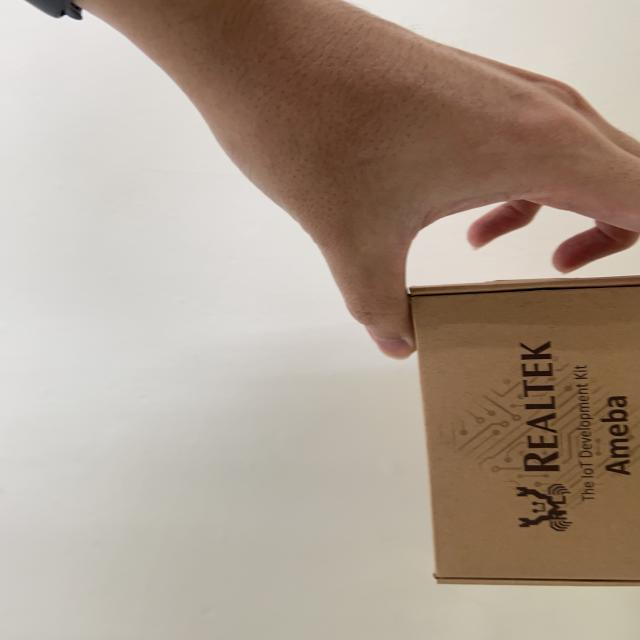box: (391, 277, 640, 608)
